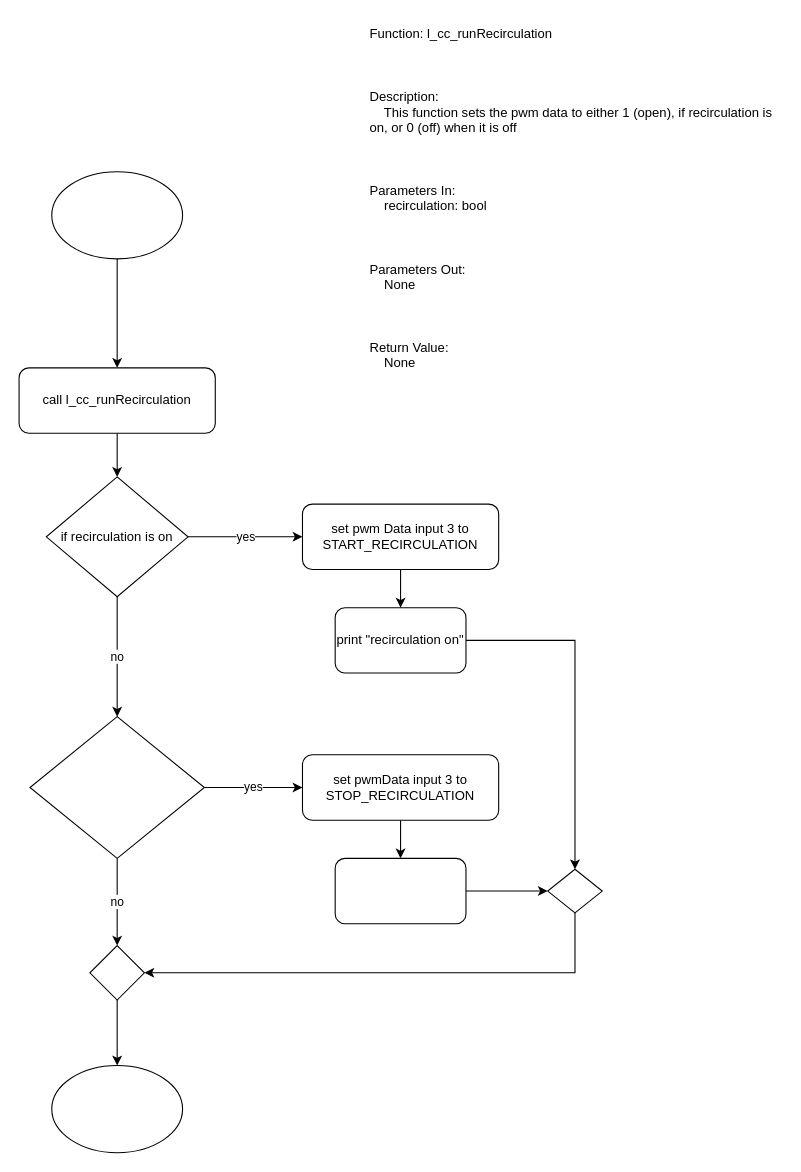
The diagram is 801 pixels wide and 1172 high, and some of its shapes have lost their labels. Here are the shapes that lost their labels. From the top down, the centre of each, then its label:
point 116,787: pwmData input 3 gets STOP_RECIRCULATION
point 400,890: print "recirculation off"
